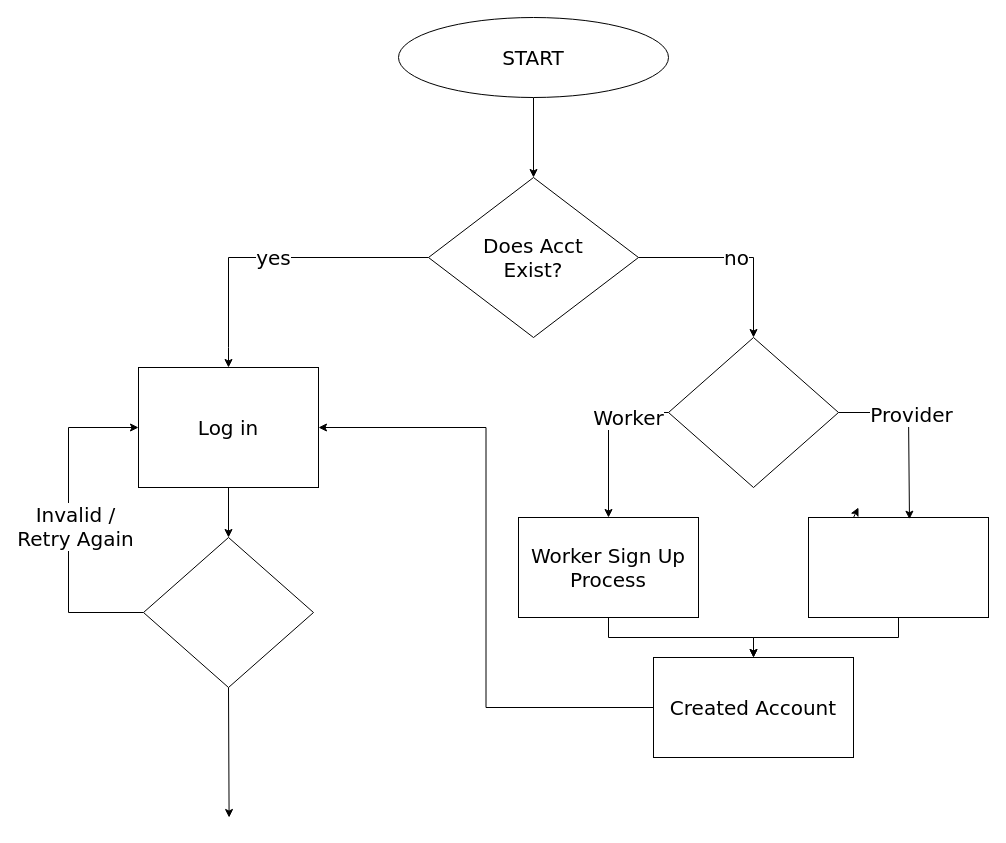
Image size: 1006x843. Some labels were removed from this diagram. The shapes that lost their labels are listed below. From the top down, each one's box as (x1, y1, x2, y2) in pixels, then its label:
(668, 336, 838, 488): Type of Account
(808, 516, 988, 618): Provider Sign Up Process
(142, 536, 314, 688): Check Credentials
